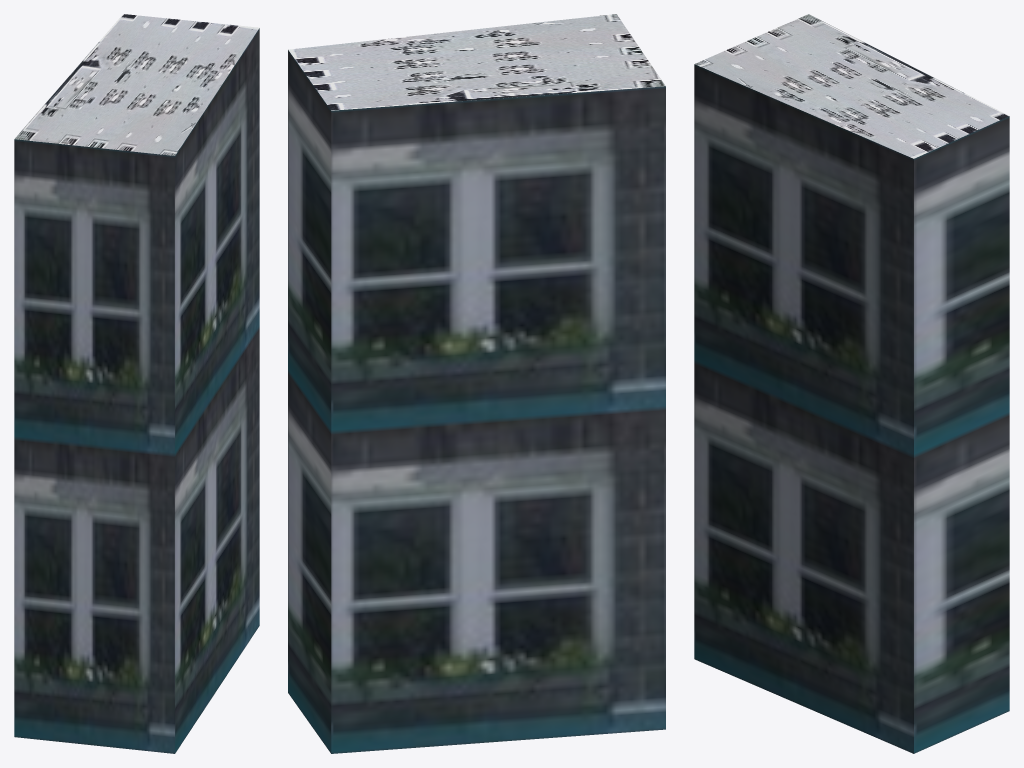
Rendered from ResTex__4243.fbx.
3 views of the same model, side by side, from view 1: azimuth 30°, elevation 25°; view 2: azimuth 150°, elevation 25°; view 3: azimuth 270°, elevation 25° (orthographic). The views are drawn at different scales.
Visible parts, largest first — view 1: CityEngineMaterial_11_m, CityEngineMaterial_4_m; view 2: CityEngineMaterial_11_m, CityEngineMaterial_4_m; view 3: CityEngineMaterial_11_m, CityEngineMaterial_4_m.
Part boxes in pixels (bbox=[...]): CityEngineMaterial_11_m: bbox=[14, 28, 259, 753]; CityEngineMaterial_4_m: bbox=[14, 14, 259, 155]; CityEngineMaterial_11_m: bbox=[288, 50, 665, 753]; CityEngineMaterial_4_m: bbox=[288, 14, 665, 110]; CityEngineMaterial_11_m: bbox=[694, 64, 1009, 753]; CityEngineMaterial_4_m: bbox=[694, 14, 1008, 158].
Bounding box in the file's own units: 3.13 × 6 × 2.88.
Materials: 2 (2 with a texture image).
